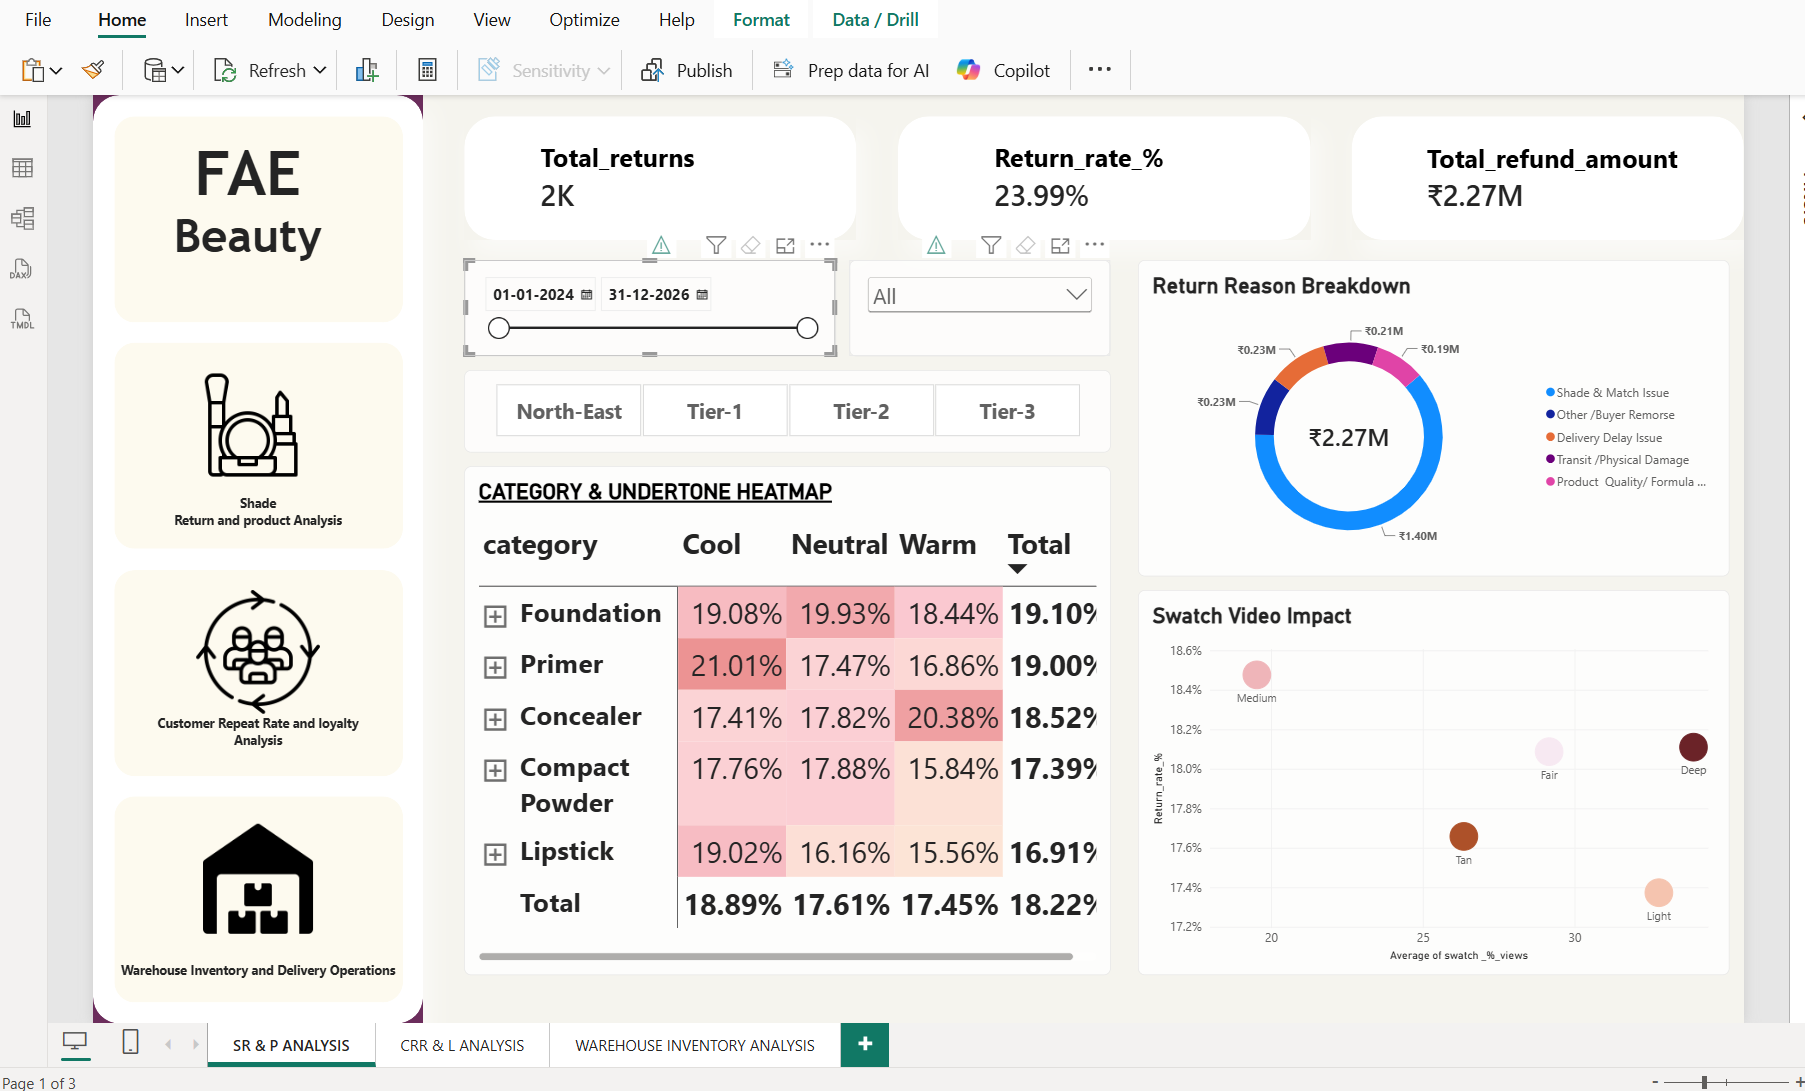

The page's visual inventory and layout, read from the dashboard file:
{"tool":"powerbi","page":{"name":"SR & P ANALYSIS","canvas":[1920,1080],"ordinal":0},"visuals":[{"type":"group","id":"g1","title":"Group 1","box":[0,0,384,1080],"z":0,"group":"g2"},{"type":"shape","box":[0,0,384,1080],"z":0,"group":"g1"},{"type":"shape","box":[432,24,456,144],"z":0},{"type":"shape","box":[24,24,336,240],"z":1000,"group":"g1"},{"type":"shape","box":[936,24,480,144],"z":1000},{"type":"textbox","box":[48,48,264,192],"z":1000,"group":"g2"},{"type":"shape","box":[1464,24,456,144],"z":2000},{"type":"shape","box":[24,288,336,240],"z":2000,"group":"g1"},{"type":"textbox","box":[48,464,288,48],"z":2000,"group":"g2"},{"type":"group","id":"g2","title":"Group 2","box":[0,0,384,1080],"z":3000},{"type":"shape","box":[24,552,336,240],"z":3000,"group":"g1"},{"type":"textbox","box":[48,720,288,48],"z":3000,"group":"g2"},{"type":"cardVisual","fields":{"Data":["Measure.total_returns"]},"box":[504,48,288,96],"z":4000},{"type":"shape","box":[24,816,336,240],"z":4000,"group":"g1"},{"type":"textbox","box":[16,1008,352,32],"z":4000,"group":"g2"},{"type":"cardVisual","fields":{"Data":["Measure.return_rate_%"]},"box":[1032,48,312,96],"z":5000},{"type":"cardVisual","fields":{"Data":["Measure.Total_refund_amount"]},"box":[1536,48,336,96],"z":6000},{"type":"actionButton","box":[48,560,288,208],"z":7000},{"type":"actionButton","box":[32,848,336,192],"z":8000},{"type":"slicer","fields":{"Values":["dim_date.Date"]},"box":[432,192,432,112],"z":9000},{"type":"pivotTable","title":"CATEGORY & UNDERTONE HEATMAP","fields":{"Columns":["dim_product.undertone"],"Rows":["dim_product.category","dim_product.shade_family"],"Values":["Measure.Return_rate_%"]},"box":[432,432,752,592],"z":10000},{"type":"donutChart","title":"Return Reason Breakdown","fields":{"Category":["Fact_Returns_&_Feedback.return_reason"],"Y":["Sum(Fact_Returns_&_Feedback.refund_amount)"]},"box":[1216,192,688,368],"z":11000},{"type":"scatterChart","title":"Swatch Video Impact","fields":{"Category":["dim_product.shade_family"],"X":["Avg(fact_page_views.swatch _%_views)"],"Y":["Measure.Return_rate_%"]},"box":[1216,576,688,448],"z":12000},{"type":"slicer","fields":{"Values":["dim_product.category"]},"box":[880,192,304,112],"z":13000},{"type":"slicer","fields":{"Values":["dim_locations.region"]},"box":[432,320,752,96],"z":14000},{"type":"image","box":[96,320,176,128],"z":15000},{"type":"image","box":[96,576,192,144],"z":16000},{"type":"image","box":[96,848,192,128],"z":17000}]}

Visuals, with their boxes on the page's 1920x1080 design canvas (x1, y1, x2, y2). These are canvas units, not pixel positions in the 1805x1091 screenshot, which may show the page scaled, cropped or inside an application window:
"Group 1" group: pyautogui.locateOnScreen(0, 0, 384, 1080)
shape: pyautogui.locateOnScreen(0, 0, 384, 1080)
shape: pyautogui.locateOnScreen(432, 24, 888, 168)
shape: pyautogui.locateOnScreen(24, 24, 360, 264)
shape: pyautogui.locateOnScreen(936, 24, 1416, 168)
textbox: pyautogui.locateOnScreen(48, 48, 312, 240)
shape: pyautogui.locateOnScreen(1464, 24, 1920, 168)
shape: pyautogui.locateOnScreen(24, 288, 360, 528)
textbox: pyautogui.locateOnScreen(48, 464, 336, 512)
"Group 2" group: pyautogui.locateOnScreen(0, 0, 384, 1080)
shape: pyautogui.locateOnScreen(24, 552, 360, 792)
textbox: pyautogui.locateOnScreen(48, 720, 336, 768)
cardVisual - Measure.total_returns: pyautogui.locateOnScreen(504, 48, 792, 144)
shape: pyautogui.locateOnScreen(24, 816, 360, 1056)
textbox: pyautogui.locateOnScreen(16, 1008, 368, 1040)
cardVisual - Measure.return_rate_%: pyautogui.locateOnScreen(1032, 48, 1344, 144)
cardVisual - Measure.Total_refund_amount: pyautogui.locateOnScreen(1536, 48, 1872, 144)
actionButton: pyautogui.locateOnScreen(48, 560, 336, 768)
actionButton: pyautogui.locateOnScreen(32, 848, 368, 1040)
slicer - dim_date.Date: pyautogui.locateOnScreen(432, 192, 864, 304)
"CATEGORY & UNDERTONE HEATMAP" pivotTable: pyautogui.locateOnScreen(432, 432, 1184, 1024)
"Return Reason Breakdown" donutChart: pyautogui.locateOnScreen(1216, 192, 1904, 560)
"Swatch Video Impact" scatterChart: pyautogui.locateOnScreen(1216, 576, 1904, 1024)
slicer - dim_product.category: pyautogui.locateOnScreen(880, 192, 1184, 304)
slicer - dim_locations.region: pyautogui.locateOnScreen(432, 320, 1184, 416)
image: pyautogui.locateOnScreen(96, 320, 272, 448)
image: pyautogui.locateOnScreen(96, 576, 288, 720)
image: pyautogui.locateOnScreen(96, 848, 288, 976)
